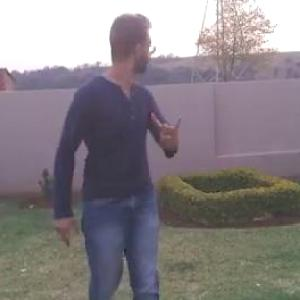takeoff-hand: (148, 103, 188, 158)
